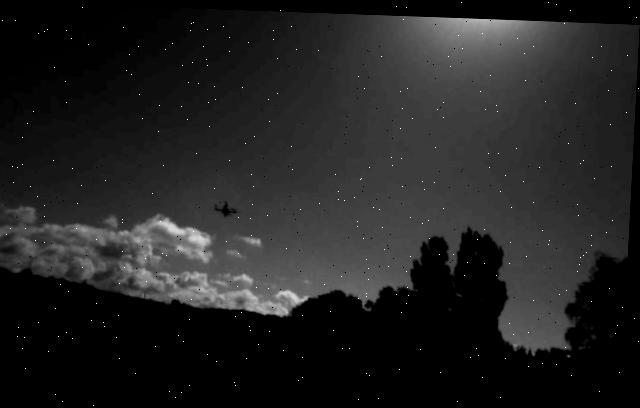drone: (213, 196, 241, 216)
